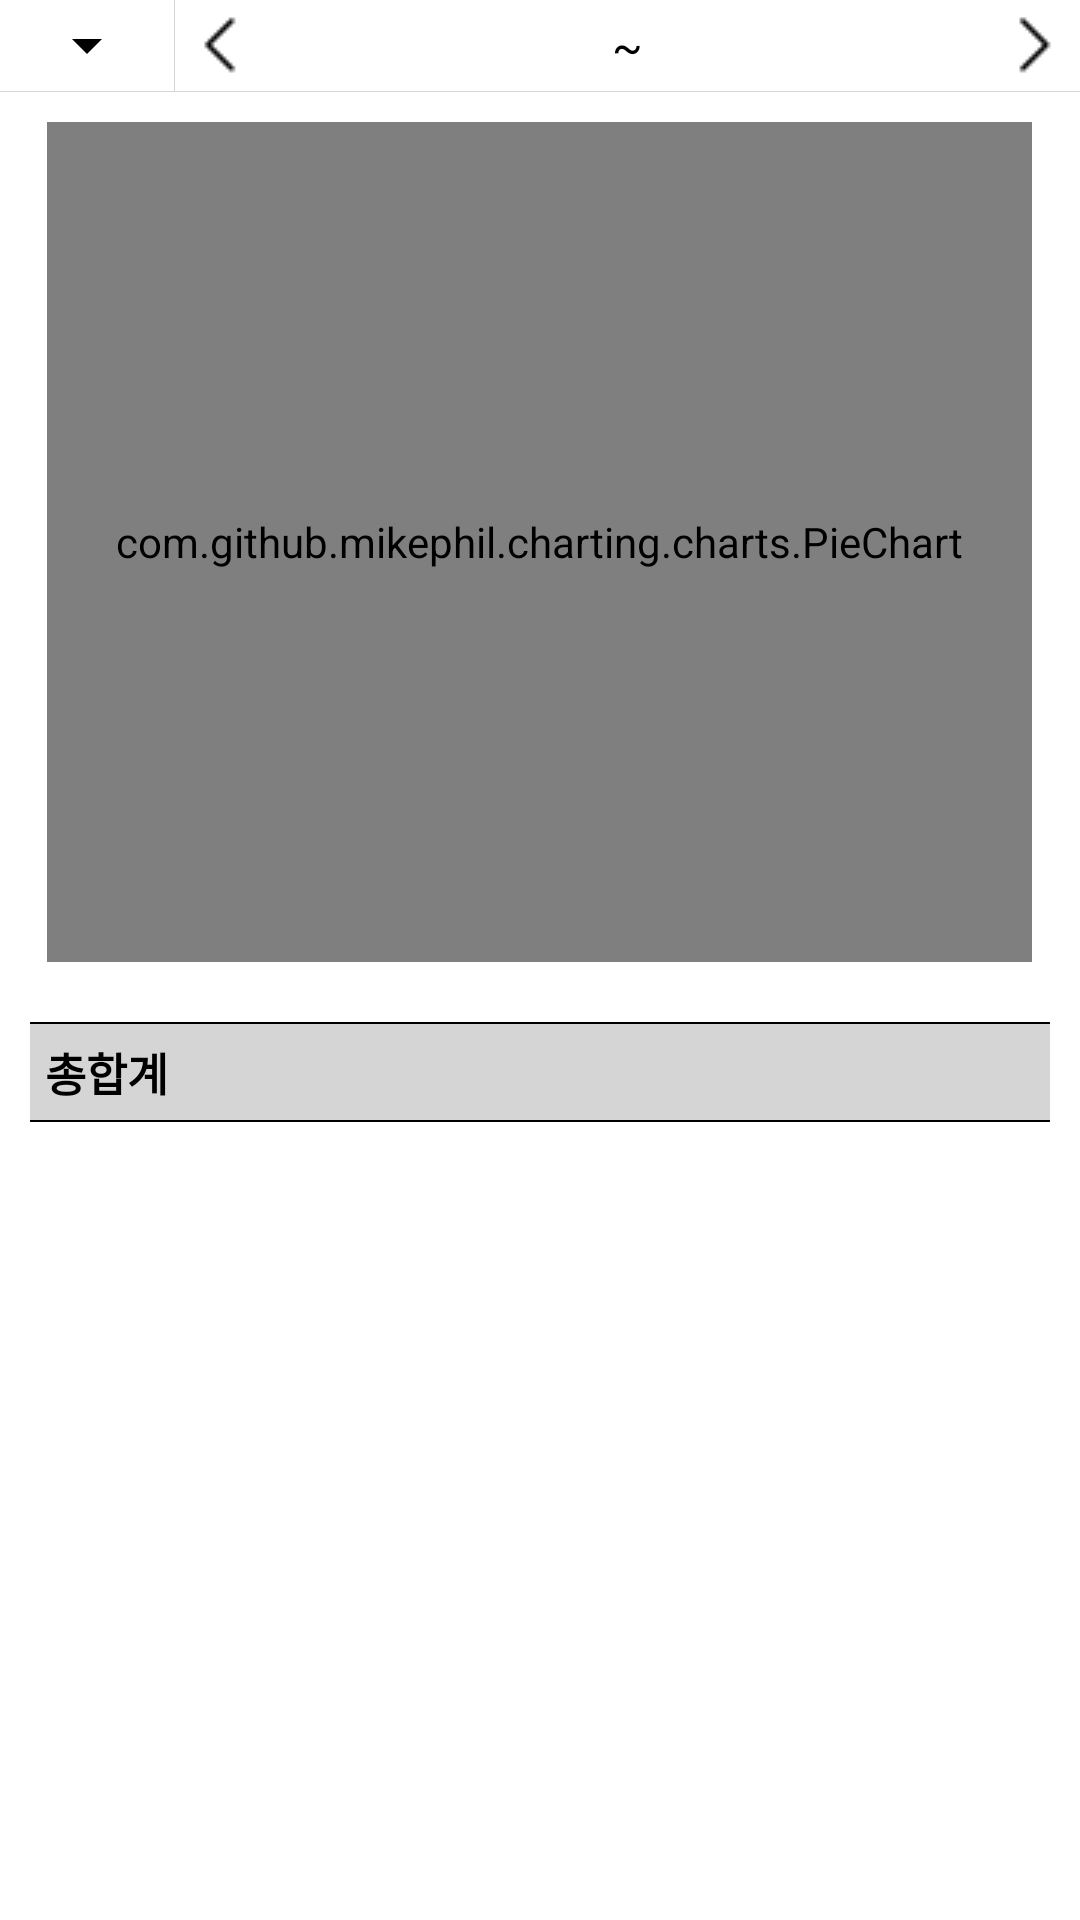

Screen size 1080×1920. Icon name, then its box in pixels as (x1, y1, x2, y2):
left arrow: (204, 17, 236, 73)
right arrow: (1019, 17, 1051, 73)
